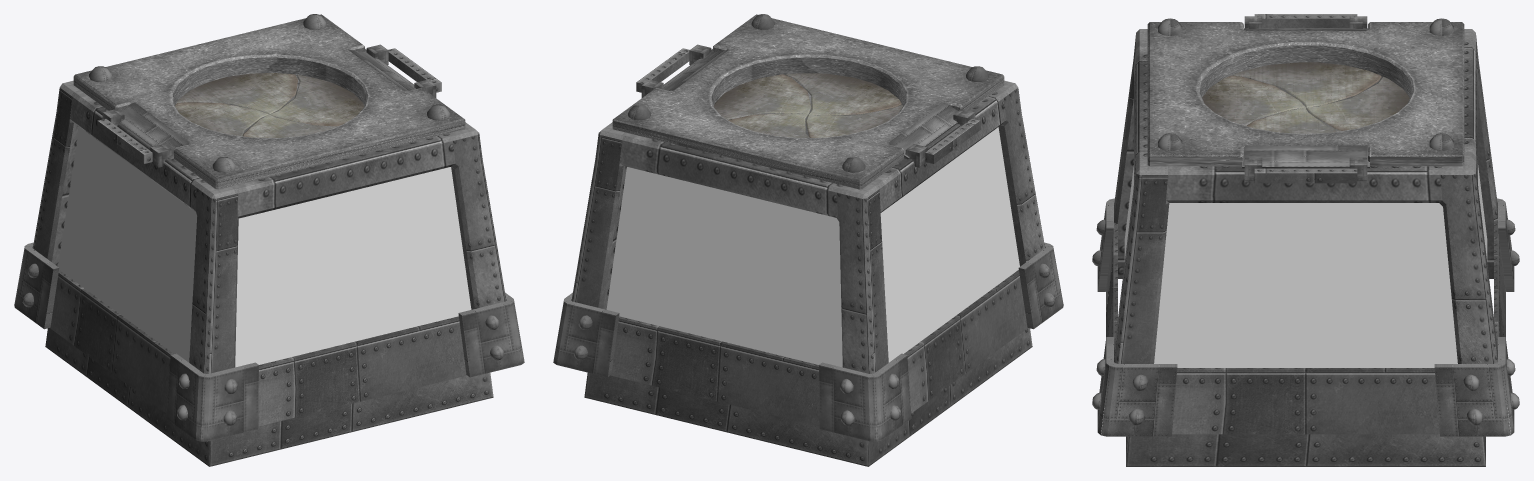
The model's file is static.glb.
3 renders of one model, left to right at view 1: azimuth 30°, elevation 25°; view 2: azimuth 150°, elevation 25°; view 3: azimuth 270°, elevation 25°, orthographic. The views are drawn at different scales.
Visible parts, largest first — view 1: Plane, Boole, Plane_2, frame, Cube_4, Cube_3, frame_2, Cube_7, frame_3, Cube_6, Cube_8, Extrude_6 (+8 smaller); view 2: Plane_3, Boole, Plane_2, frame_3, Cube_10, Cube_3, frame_2, Cube_7, frame_4, Cube_14, Cube_12, Extrude (+8 smaller); view 3: Plane_4, Boole, Cube_13, frame_4, Cube_3, frame, Cube_5, Cube_15, frame_3, Extrude_4, Extrude, Cube (+11 smaller).
Part boxes in pixels (x1,y1,x2,y2): Plane: [235, 167, 471, 367]; Boole: [73, 14, 465, 189]; Plane_2: [58, 127, 197, 362]; frame: [231, 122, 506, 309]; Cube_4: [258, 316, 466, 426]; Cube_3: [45, 75, 493, 466]; frame_2: [70, 90, 238, 433]; Cube_7: [50, 270, 173, 413]; frame_3: [33, 80, 79, 266]; Cube_6: [458, 300, 524, 377]; Cube_8: [201, 362, 258, 441]; Extrude_6: [177, 73, 297, 114]; Plane_3: [606, 167, 842, 367]; Boole: [612, 14, 1004, 189]; Plane_2: [880, 127, 1019, 362]; frame_3: [620, 132, 888, 433]; Cube_10: [611, 316, 819, 426]; Cube_3: [584, 75, 1032, 466]; frame_2: [869, 80, 1044, 266]; Cube_7: [904, 270, 1027, 413]; frame_4: [571, 49, 712, 309]; Cube_14: [553, 300, 619, 377]; Cube_12: [819, 362, 876, 441]; Extrude: [786, 73, 901, 115]; Plane_4: [1154, 203, 1457, 367]; Boole: [1147, 22, 1464, 166]; Cube_13: [1172, 368, 1439, 434]; frame_4: [1165, 157, 1497, 363]; Cube_3: [1126, 77, 1485, 466]; frame: [1114, 39, 1169, 363]; Cube_5: [1101, 363, 1177, 436]; Cube_15: [1434, 363, 1510, 436]; frame_3: [1464, 29, 1497, 278]; Extrude_4: [1233, 62, 1381, 107]; Extrude: [1202, 75, 1305, 125]; Cube: [1254, 14, 1357, 183].
Size of the model in its own units: 2.05 by 1.66 by 2.05.
Materials: 4 (3 with a texture image).
